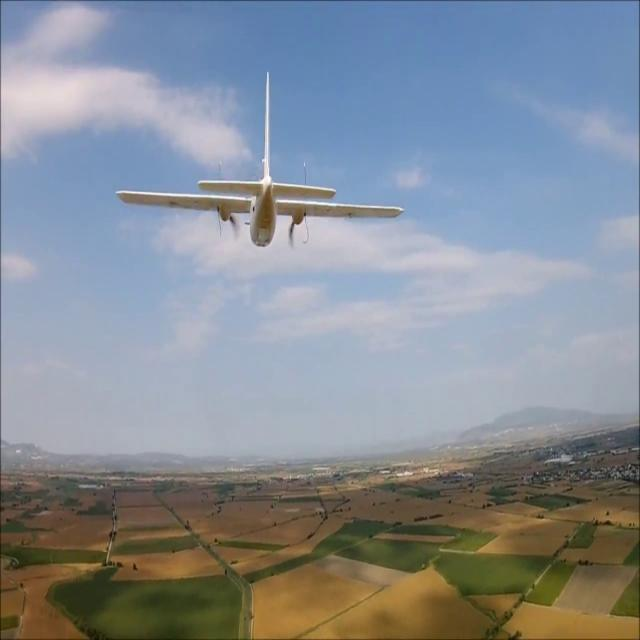iha: (105, 75, 408, 271)
